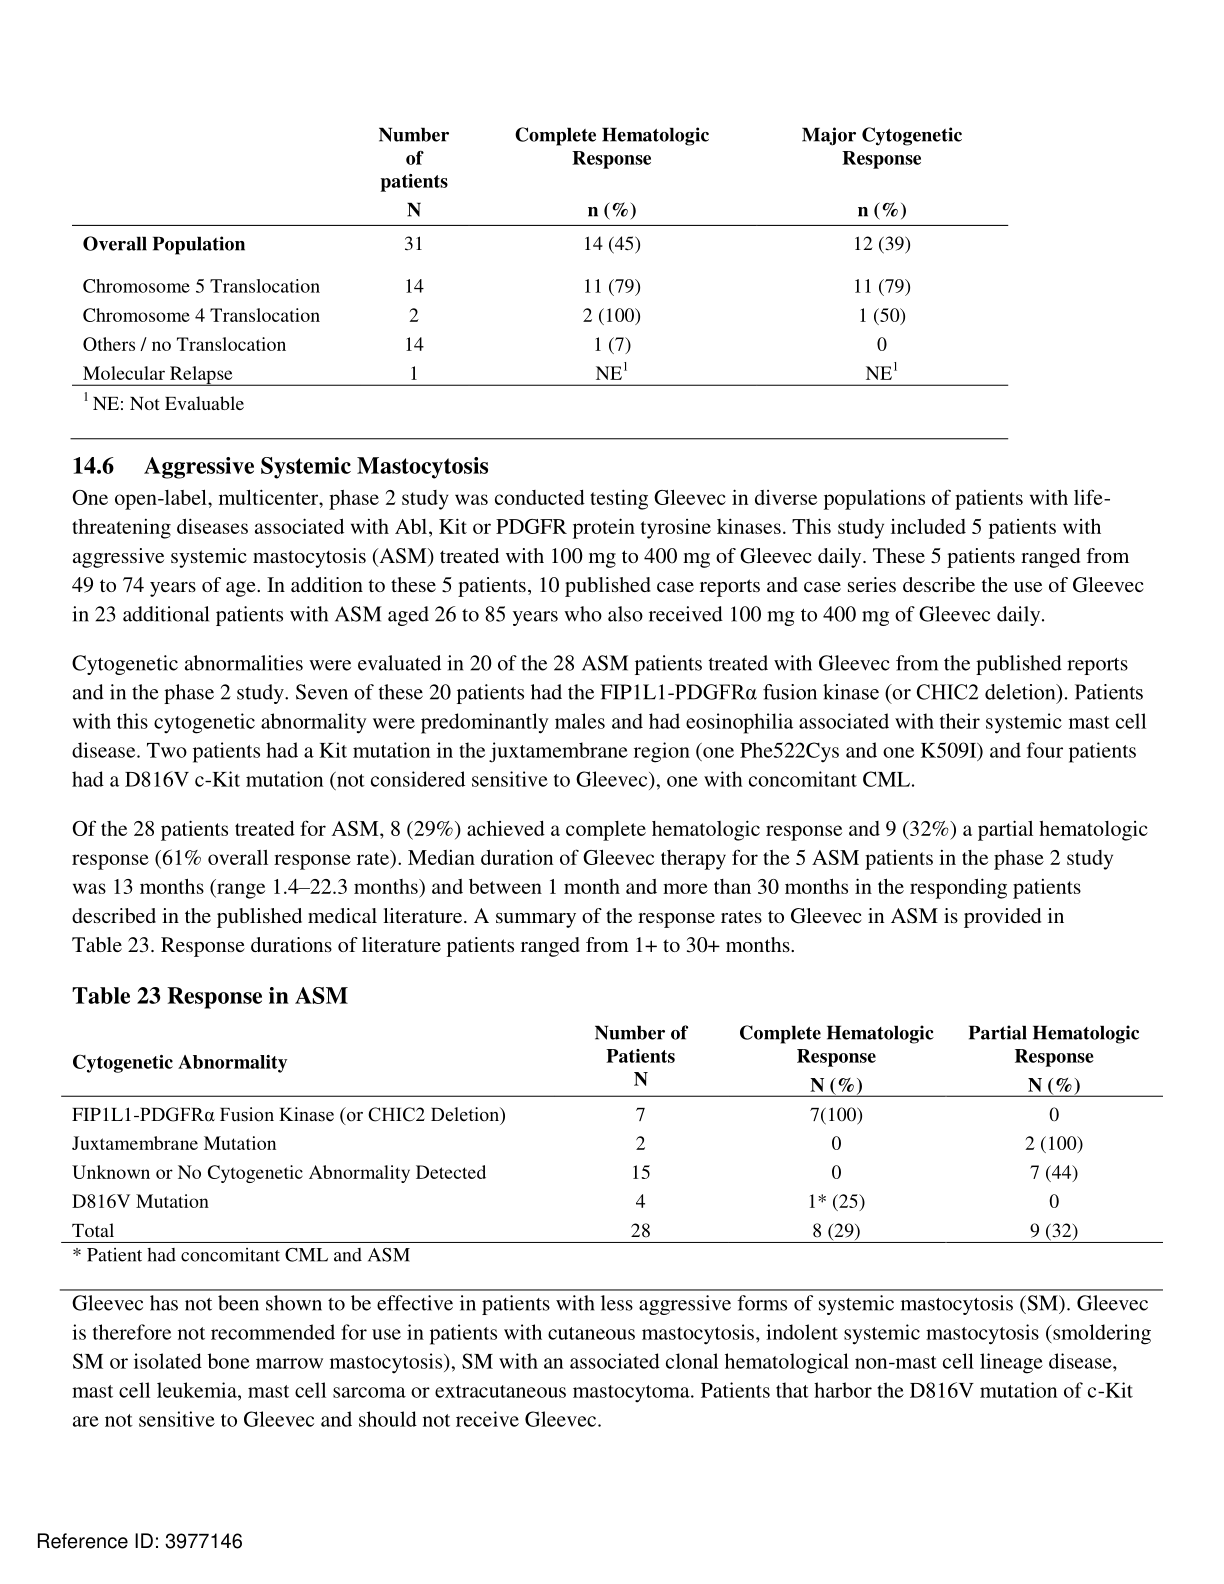partial_lined: (60, 1011, 1164, 1247), (73, 123, 1011, 388)
